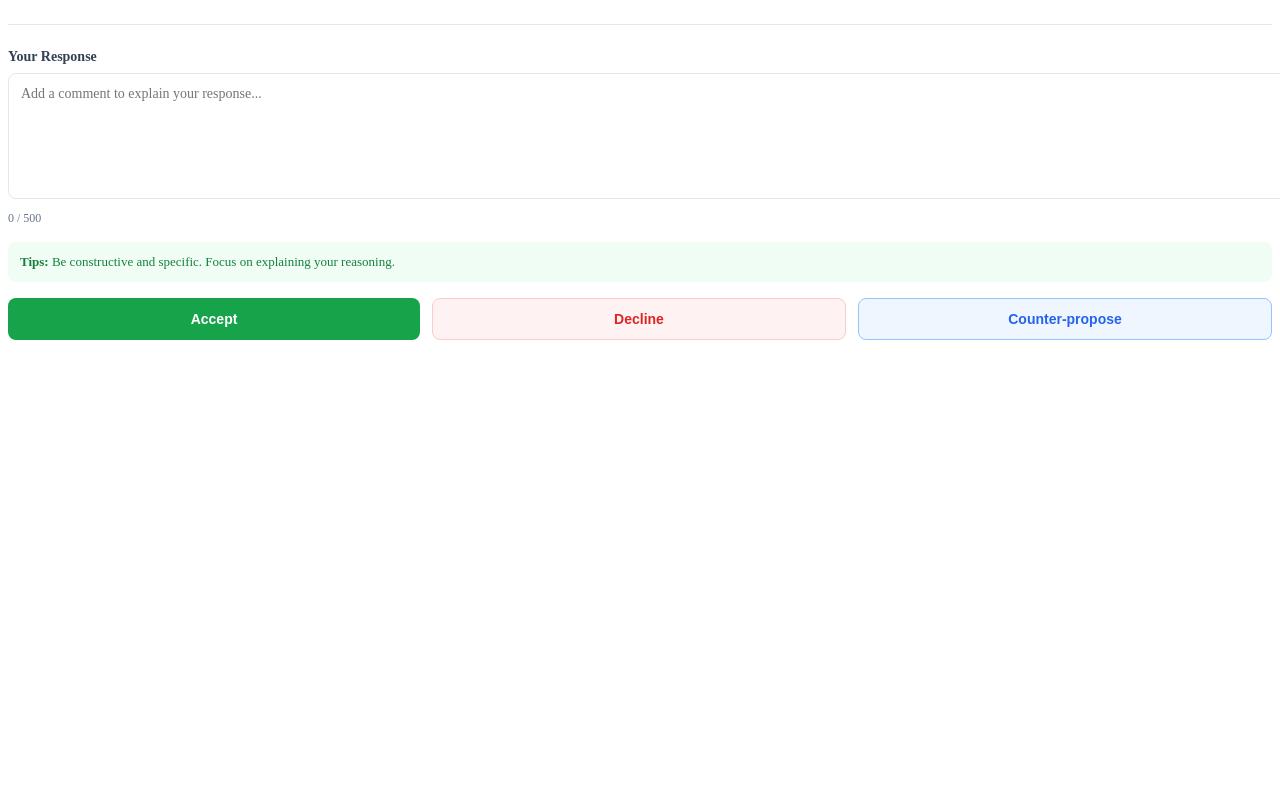
Scenario: ProposalResponseForm - Story 34.3 › confirmation dialog - AC2 › should show confirmation before accepting
The image size is (1280, 800).
Click the button "Accept" at (214, 319), box [8,298,420,340]
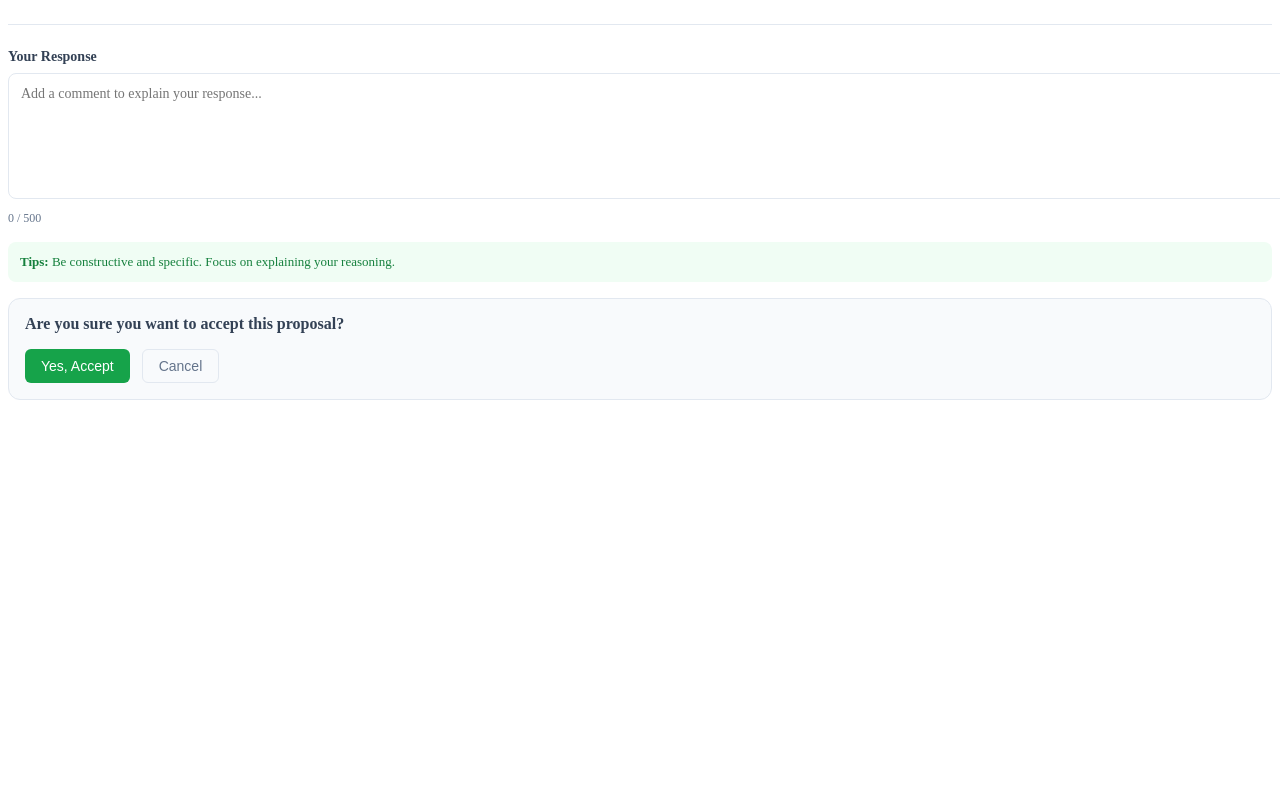
Expected: the text "Are you sure you want to accept this proposal?" is shown, [25,315,344,332]
